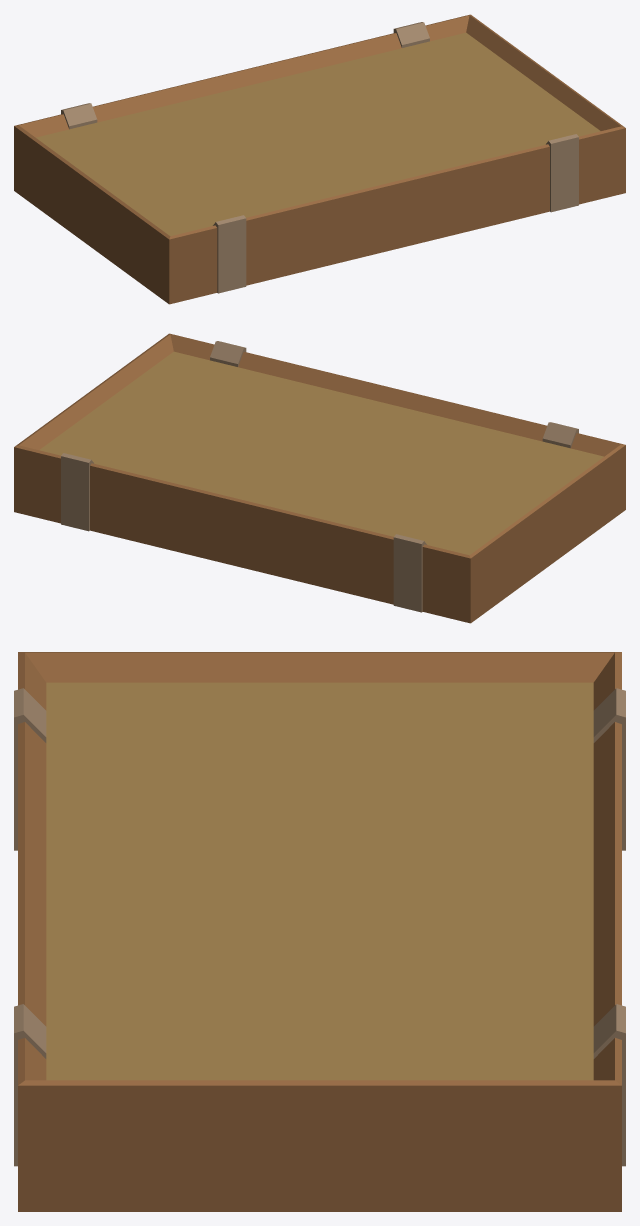
Rendered from Wooden_Garden_Box_00.fbx.
3 views of the same model, one above another, from view 1: azimuth 30°, elevation 25°; view 2: azimuth 150°, elevation 25°; view 3: azimuth 270°, elevation 25° (orthographic). The views are drawn at different scales.
Visible parts, largest first — view 1: Wooden_Garden_Box_00; view 2: Wooden_Garden_Box_00; view 3: Wooden_Garden_Box_00.
Boxes of the visible parts, box(x1,y1,x2,y2) form: Wooden_Garden_Box_00: box(14, 14, 625, 304); Wooden_Garden_Box_00: box(14, 333, 625, 623); Wooden_Garden_Box_00: box(14, 652, 625, 1211).
Bounding box in the file's own units: 109 × 15.95 × 65.15.
